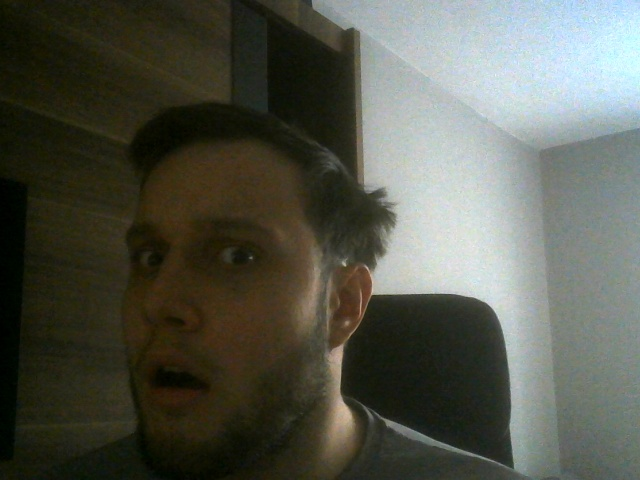surprised: (122, 104, 374, 466)
